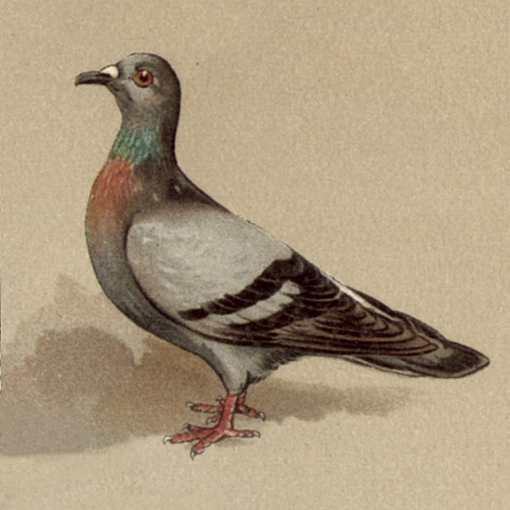Flying Rat: (65, 51, 475, 452)
